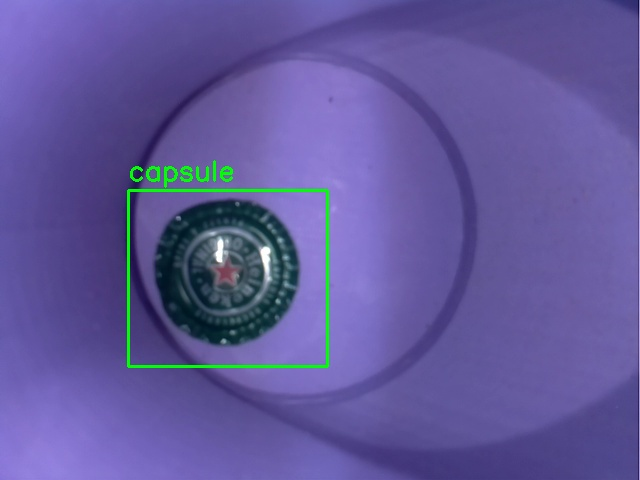capsule: (128, 190, 327, 366)
